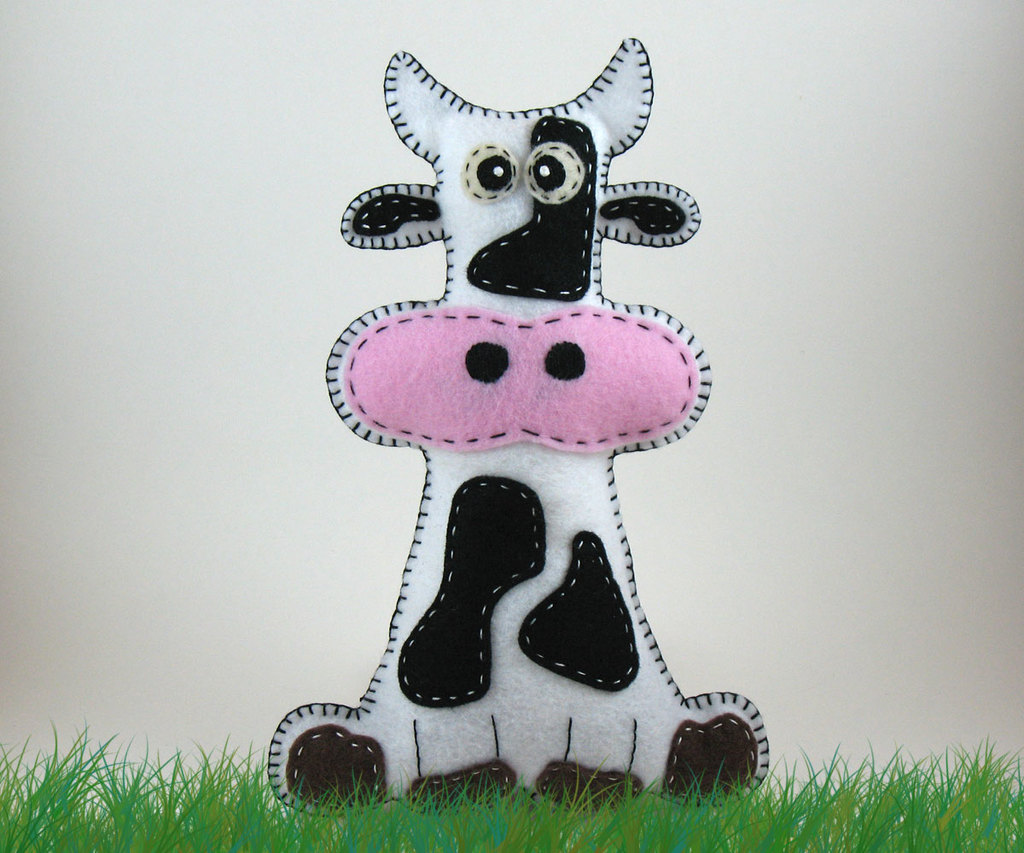Animal: (265, 29, 768, 810)
